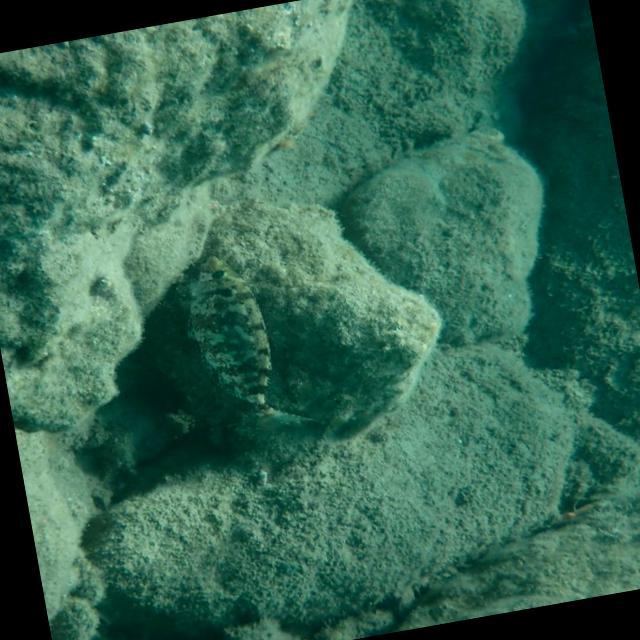Sokar Baligi: (152, 231, 326, 459)
